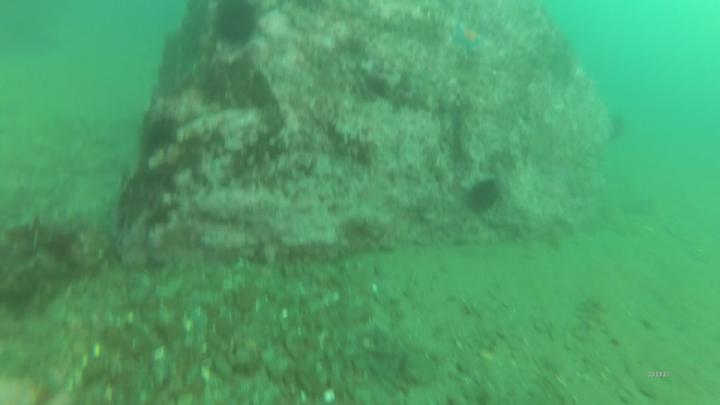echinus: (211, 3, 260, 48), (143, 113, 179, 157), (464, 177, 504, 214)
starfish: (451, 19, 486, 55)
